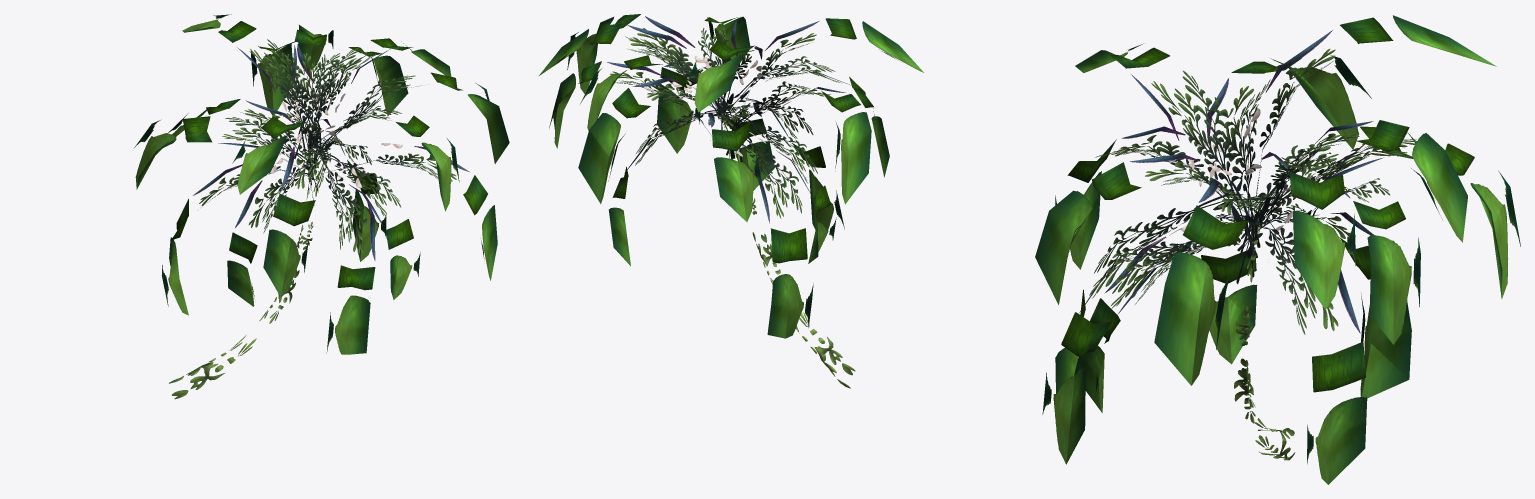
File: S_Tree_Green053.FBX
3 views of the same model, side by side, from view 1: azimuth 30°, elevation 25°; view 2: azimuth 150°, elevation 25°; view 3: azimuth 270°, elevation 25° (orthographic). The views are drawn at different scales.
Parts seen in each view (by area): view 1: S_Tree_Green053; view 2: S_Tree_Green053; view 3: S_Tree_Green053.
Part boxes in pixels (box(x1,y1,x2,y2)): S_Tree_Green053: box(134, 14, 509, 399); S_Tree_Green053: box(539, 14, 923, 388); S_Tree_Green053: box(1035, 15, 1520, 484).
Bounding box in the file's own units: 1106 × 694 × 895.
